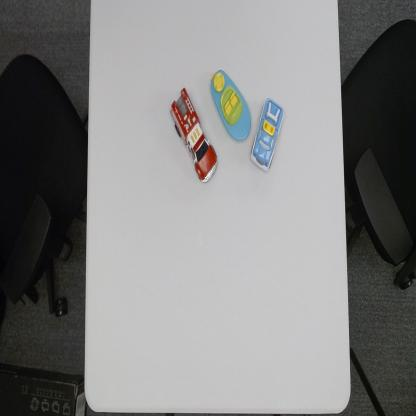Boat: (209, 66, 252, 144)
Car: (249, 95, 284, 175)
Firetruck: (169, 86, 218, 189)
